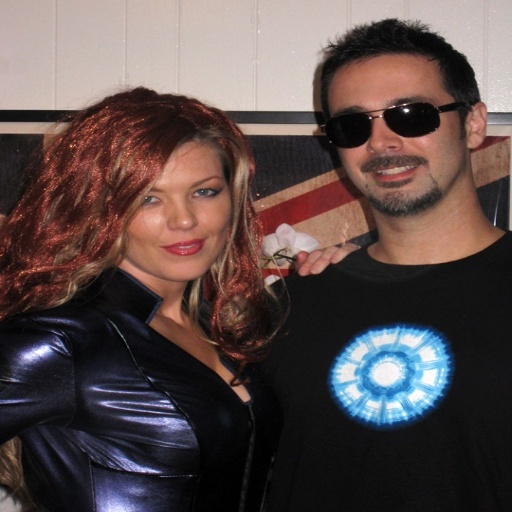hand: (296, 231, 366, 279)
